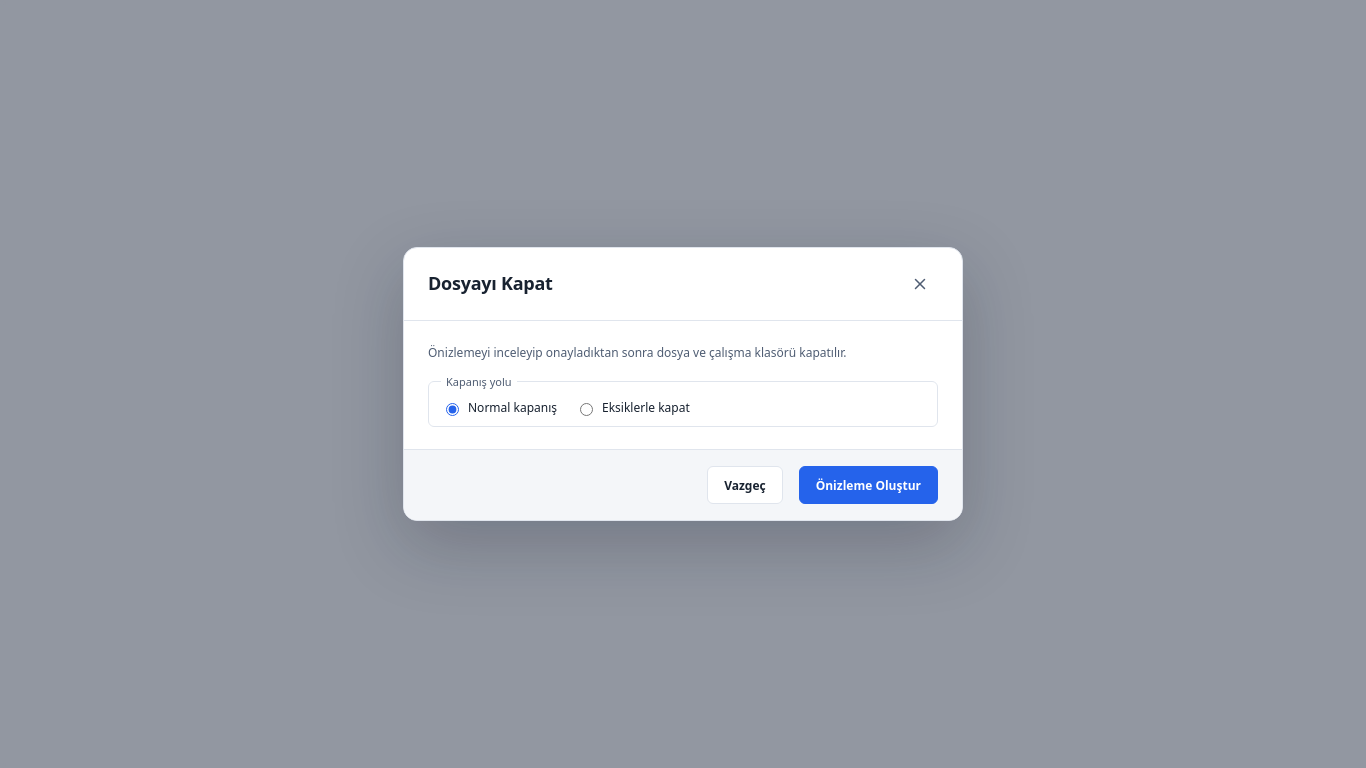
Test case: CaseLifecycleModal › explains the rejected idempotency-key field and retains the entered reason
Click the radio button labelled "Eksiklerle kapat": (586, 409) [580, 403, 593, 416]
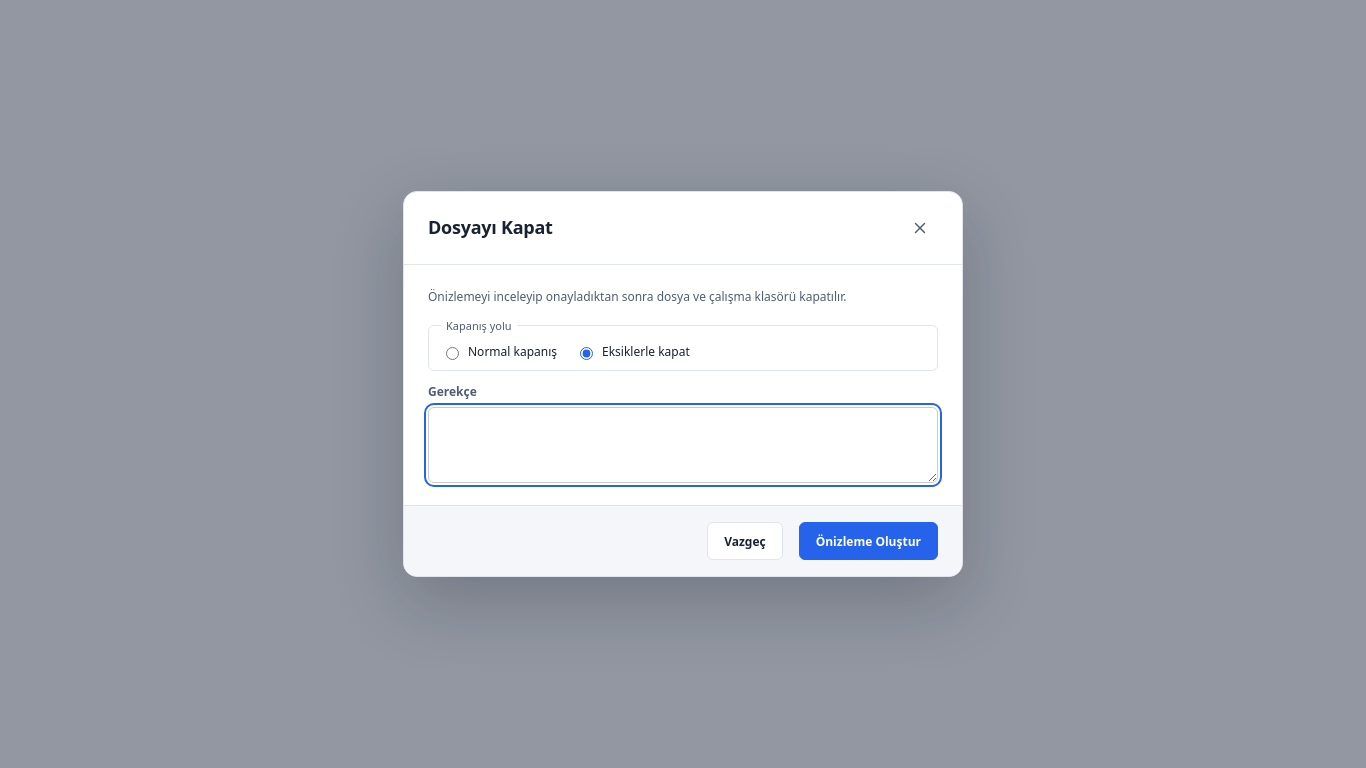
In the text box labelled "Gerekçe": (683, 445) [428, 407, 938, 483], type "Eksik belgeler daha sonra tamamlanacak."
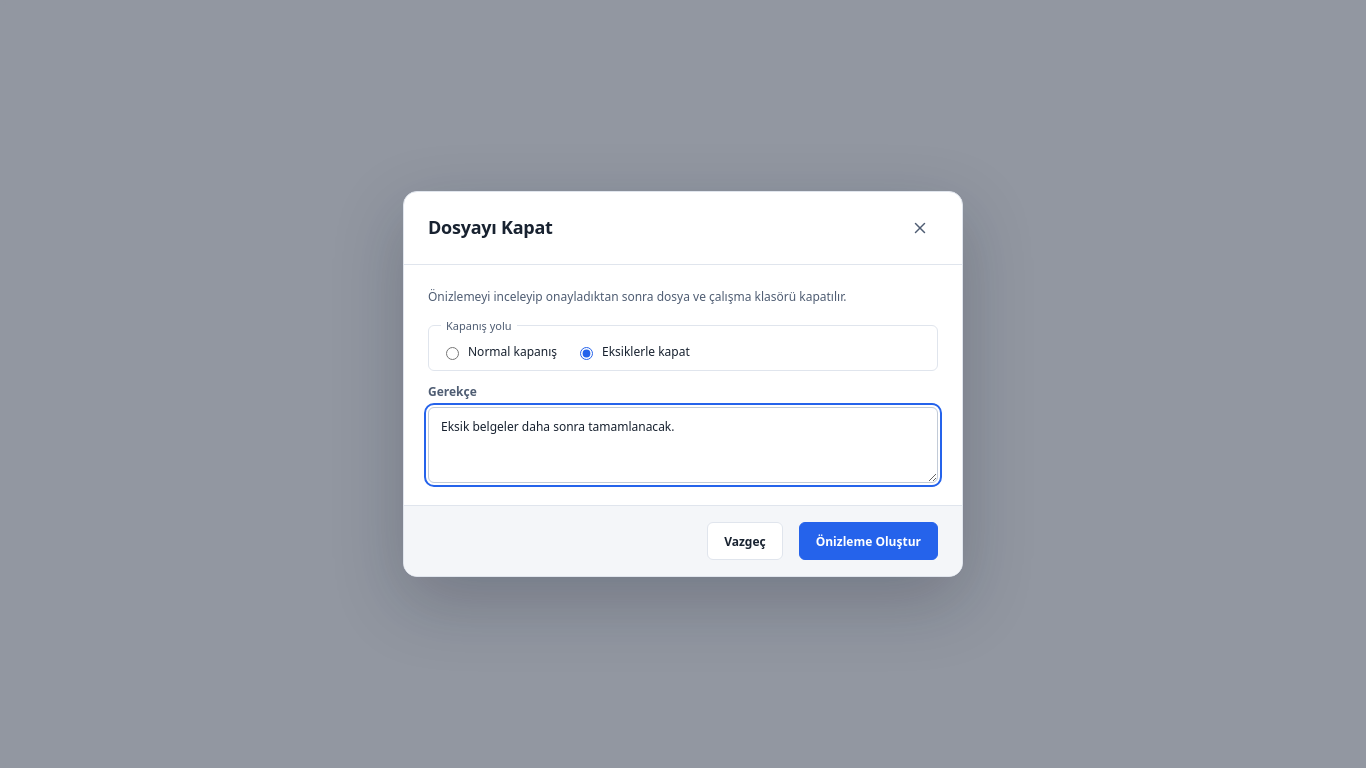
Click the button "Önizleme Oluştur": (868, 541) [799, 522, 938, 560]
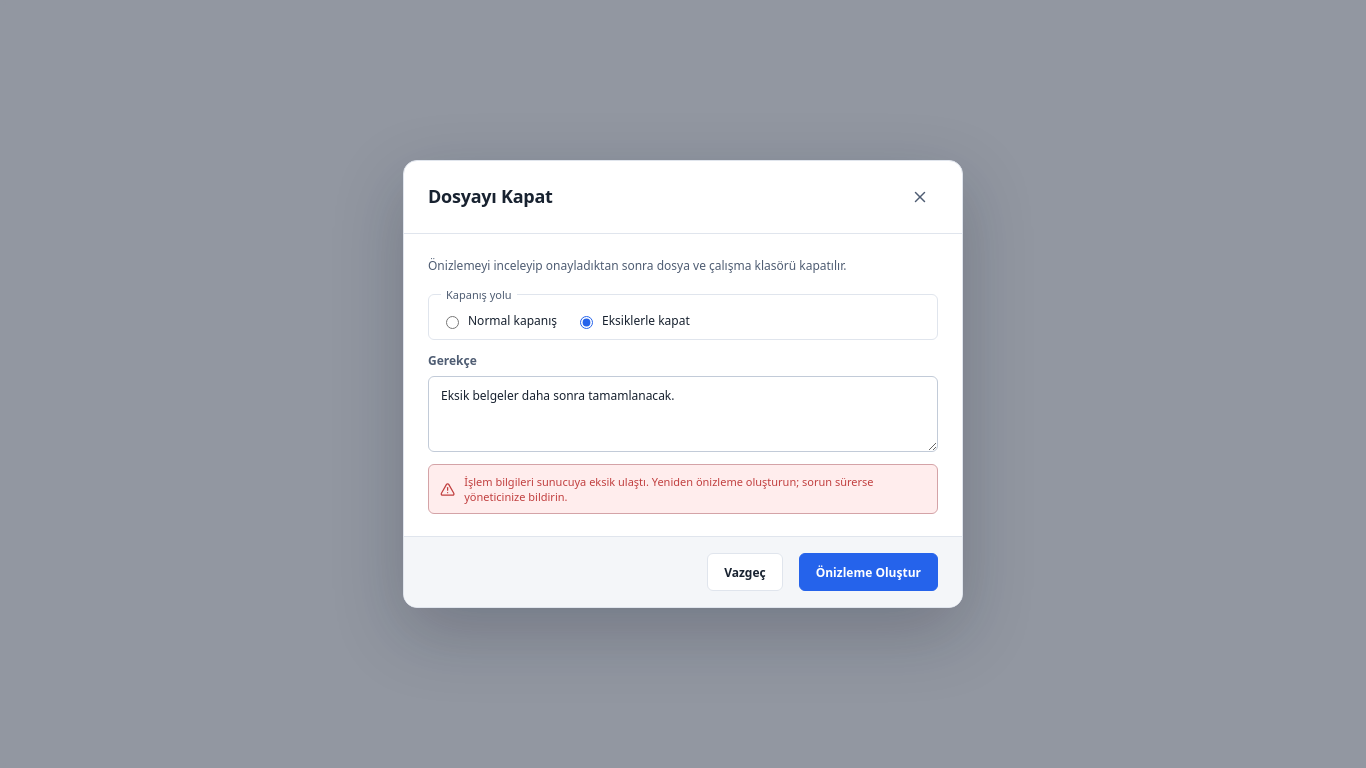
Expected: the radio button labelled "Eksiklerle kapat" is checked, [580, 316, 593, 329]
Expected: the message shows "İşlem bilgileri sunucuya eksik ulaştı.", [464, 474, 874, 504]
